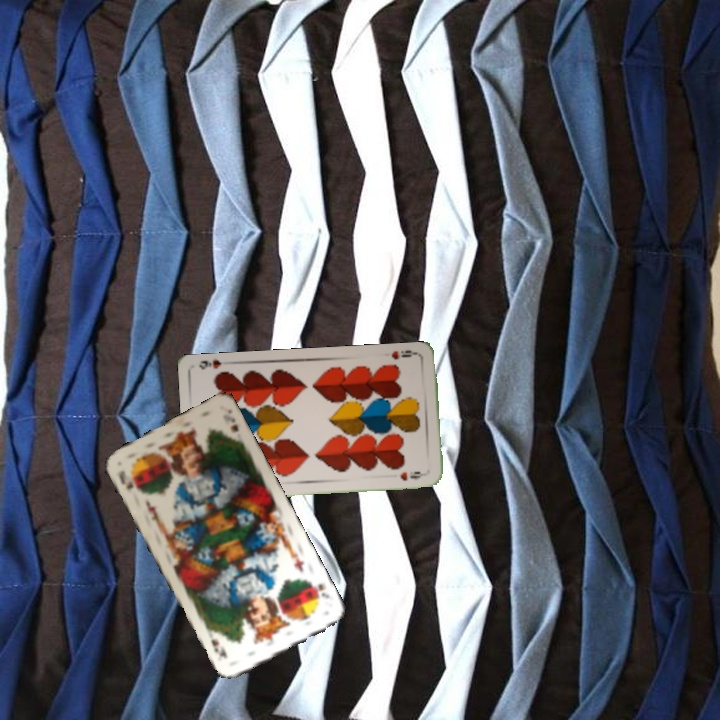H9: (388, 346, 421, 362)
SK: (115, 467, 142, 495), (305, 576, 332, 602)
